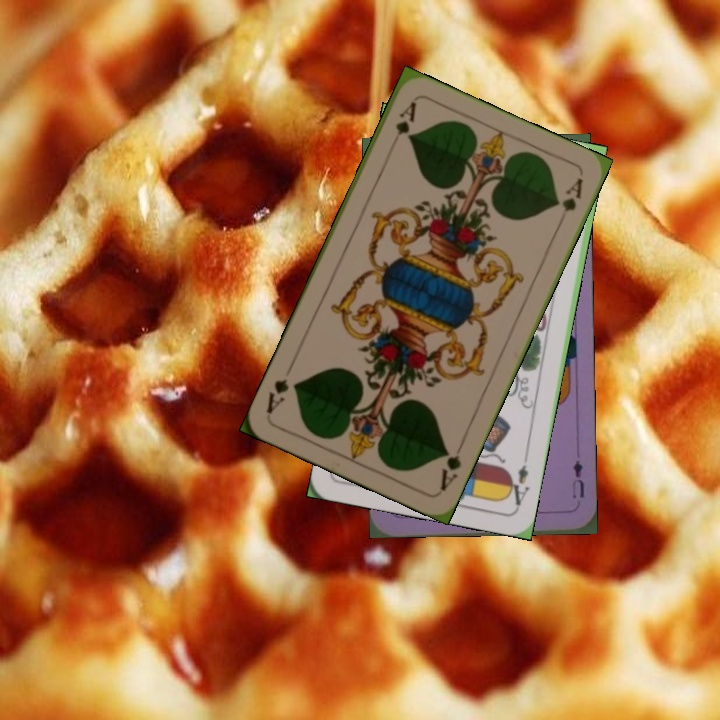EA: (503, 460, 532, 510)
EU: (568, 456, 586, 501)
GA: (387, 97, 419, 152), (436, 438, 467, 494)
